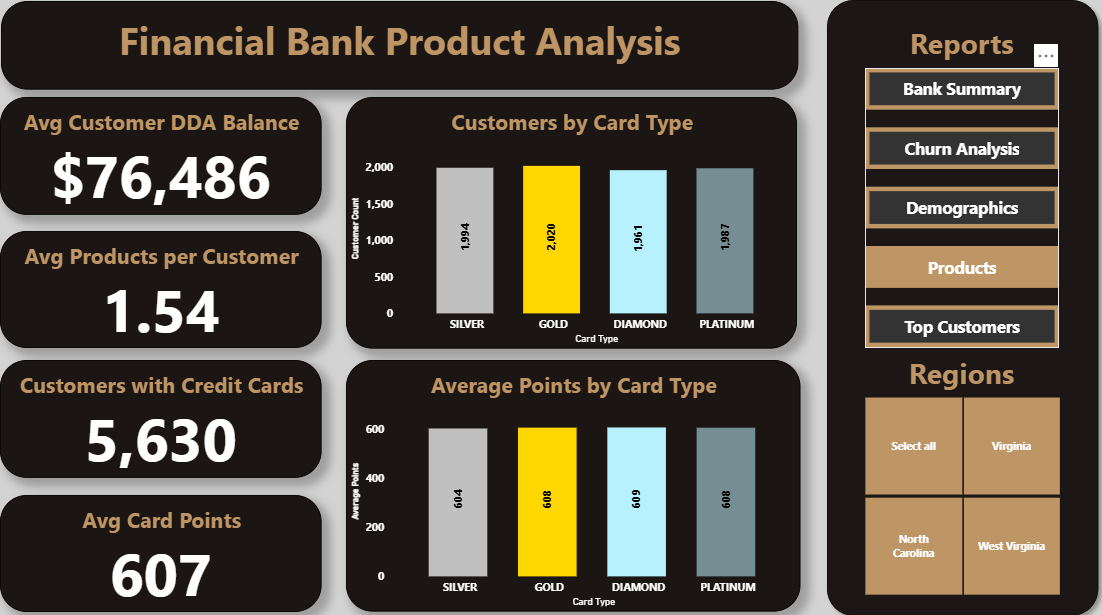

The dashboard page shown, as its layout file describes it:
{"tool":"powerbi","page":{"name":"Products","canvas":[1280,720],"ordinal":3},"visuals":[{"type":"card","title":"Avg Products per Customer","fields":{"Values":["Avg(BankData.NumOfProducts)"]},"box":[16.1,273.7,362.9,131.7],"z":0},{"type":"textbox","box":[16.7,13.3,900,100],"z":1000},{"type":"shape","box":[939.9,3,324.4,713],"z":2000},{"type":"slicer","title":"Regions","fields":{"Values":["BankData.Geography"]},"box":[971.7,406.8,259,283.9],"z":3000},{"type":"textbox","box":[976.1,38,250.2,49.8],"z":4000},{"type":"columnChart","title":"Customers by Card Type","fields":{"Y":["CountNonNull(BankData.Exited)"],"Category":["BankData.CardType"]},"box":[406.3,122.1,509.2,284.3],"z":5000},{"type":"card","title":"Avg Customer DDA Balance","fields":{"Values":["Avg(BankData.Balance)"]},"box":[16.1,121.5,362.9,133.2],"z":6000},{"type":"columnChart","title":"Average Points by Card Type","fields":{"Category":["BankData.CardType"],"Y":["Avg(BankData.PointEarned)"]},"box":[406.3,418.5,512.7,284.3],"z":7000},{"type":"card","title":"Customers with Credit Cards","fields":{"Values":["CountNonNull(BankData.HasCrCard)"]},"box":[16.1,418.5,362.9,133.2],"z":8000},{"type":"card","title":"Avg Card Points","fields":{"Values":["Avg(BankData.PointEarned)"]},"box":[16.1,570.7,362.9,131.7],"z":9000},{"type":"pageNavigator","box":[992.2,89.3,219.5,316.1],"z":10000}]}

Visuals, with their boxes in screenshot pixels (x1, y1, x2, y2), scaled from the page's 1280x720 canvas onto the 1102x615 screenshot:
"Avg Products per Customer" card: [14, 234, 326, 346]
textbox: [14, 11, 789, 97]
shape: [809, 3, 1088, 612]
"Regions" slicer: [837, 347, 1060, 590]
textbox: [840, 32, 1056, 75]
"Customers by Card Type" columnChart: [350, 104, 788, 347]
"Avg Customer DDA Balance" card: [14, 104, 326, 218]
"Average Points by Card Type" columnChart: [350, 357, 791, 600]
"Customers with Credit Cards" card: [14, 357, 326, 471]
"Avg Card Points" card: [14, 487, 326, 600]
pageNavigator: [854, 76, 1043, 346]
